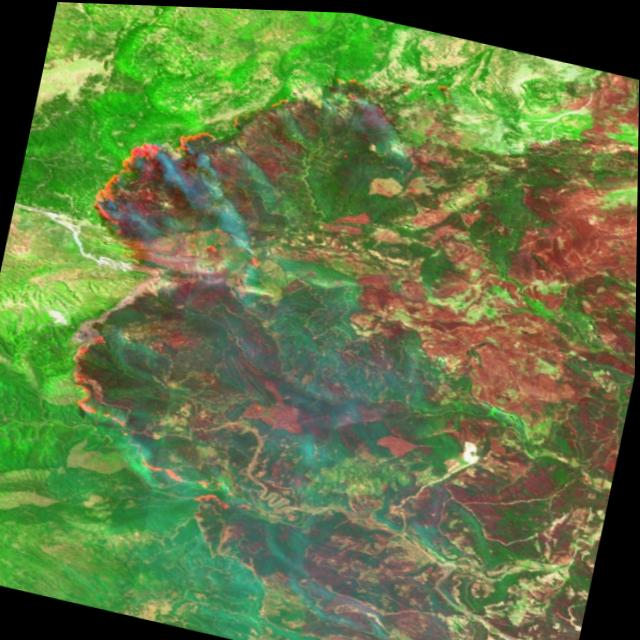fire: (41, 316, 246, 503), (75, 104, 235, 263)
